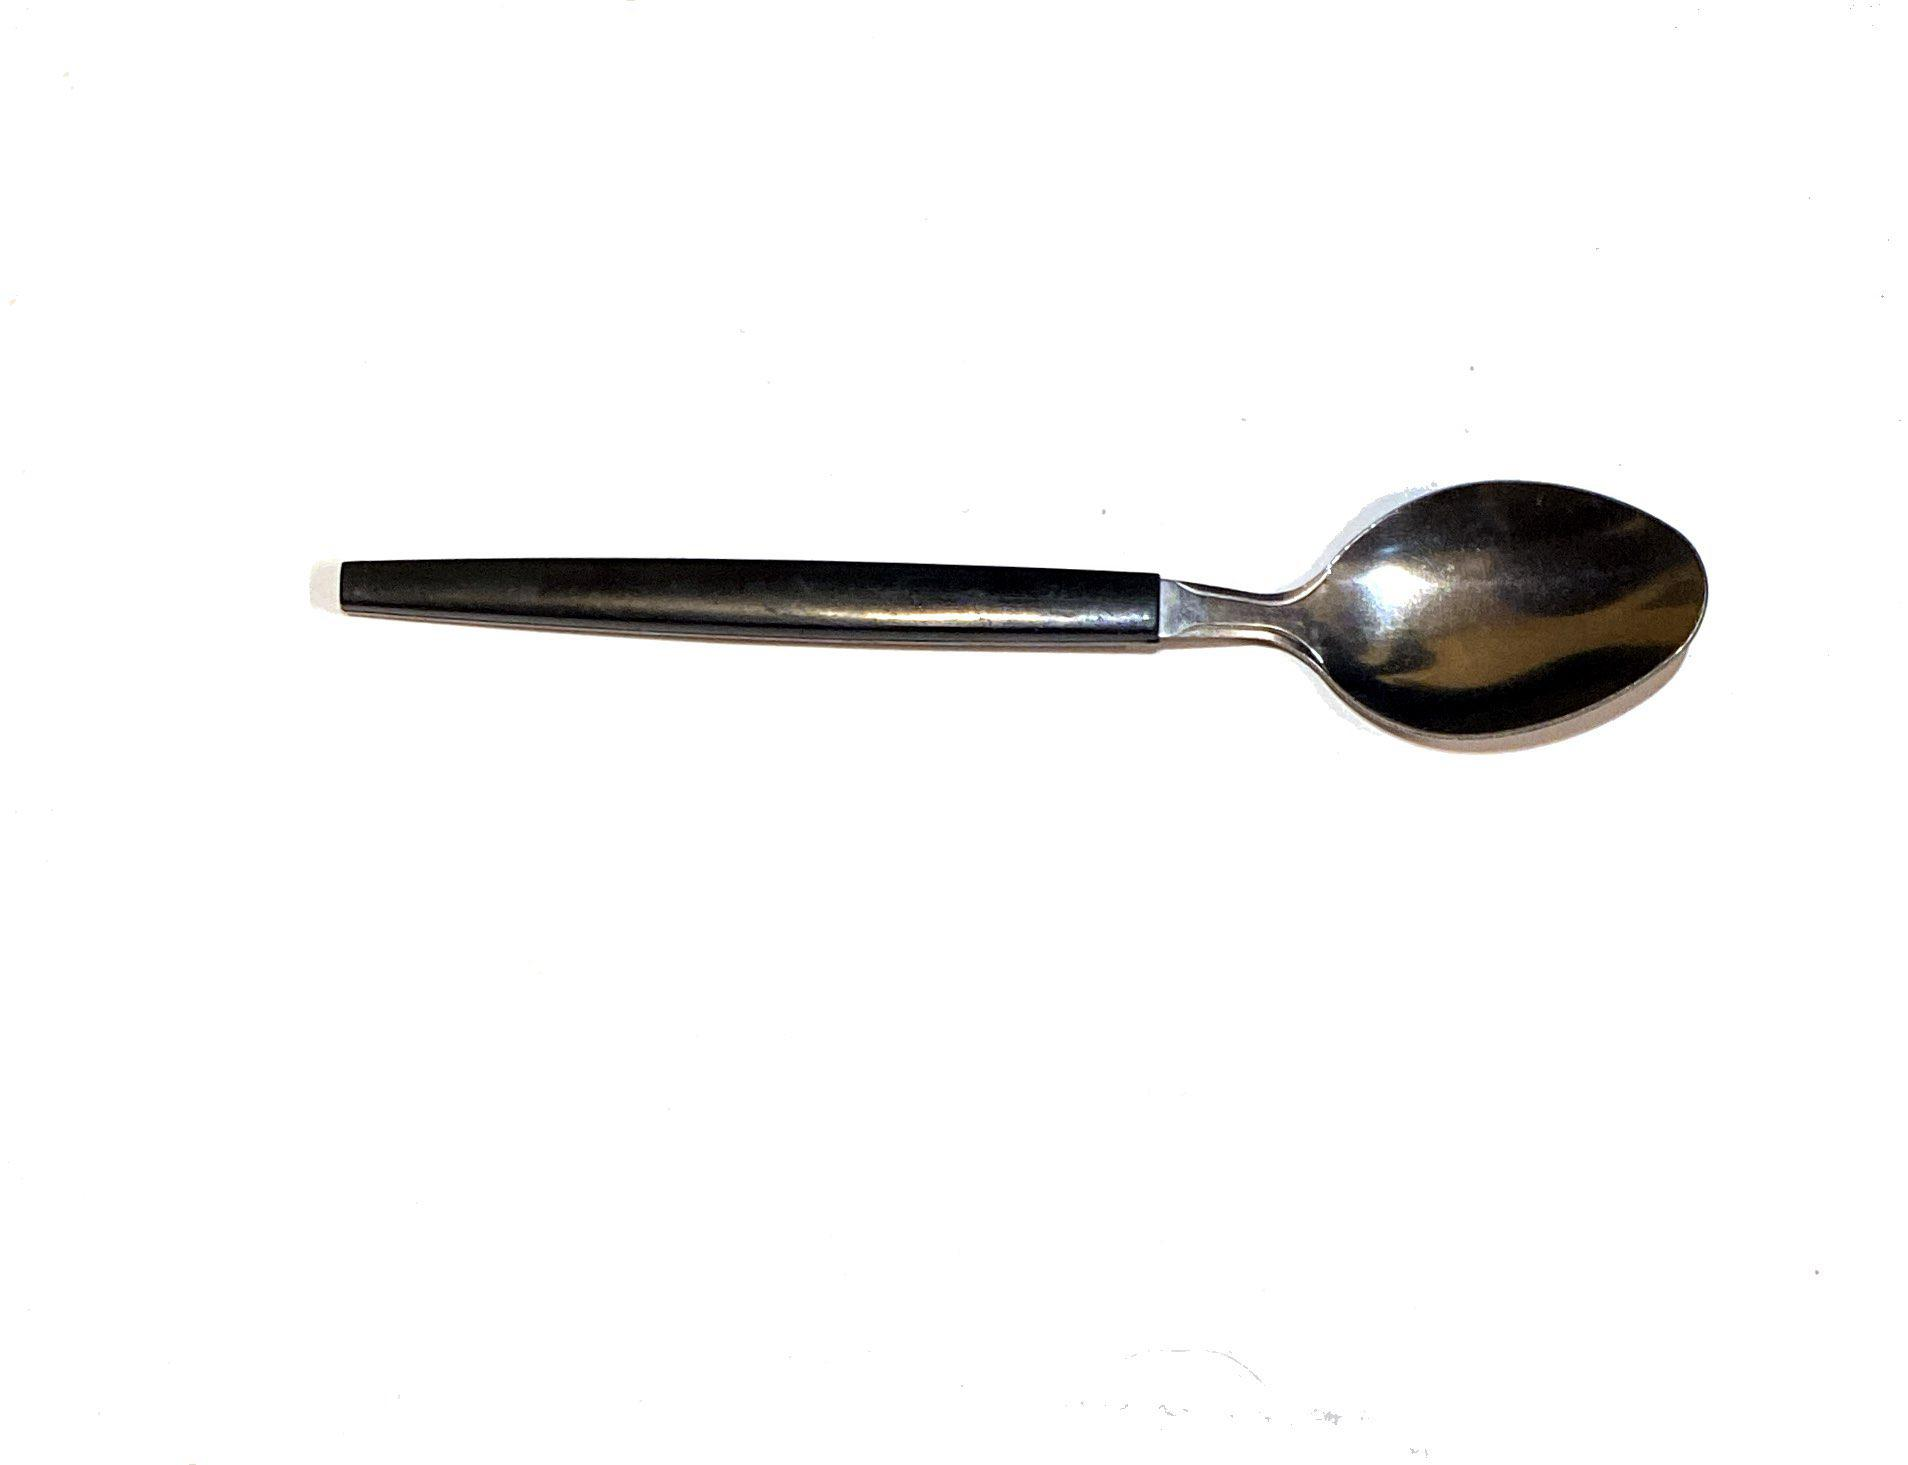Spoon: (325, 419, 1763, 883)
